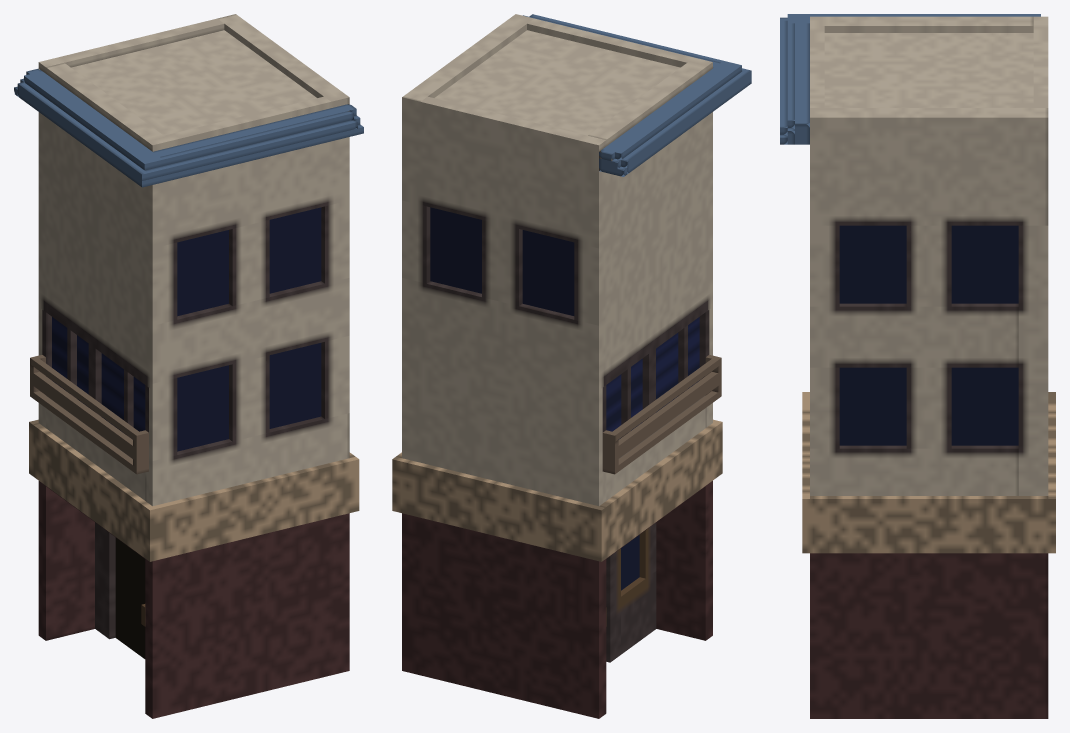
The picture shows the model from 3 angles, left to right: view 1: azimuth 30°, elevation 25°; view 2: azimuth 150°, elevation 25°; view 3: azimuth 270°, elevation 25°; orthographic projection. The views are drawn at different scales.
Visible parts, largest first — view 1: Content; view 2: Content; view 3: Content.
Boxes of the visible parts, left/top/right/bottom form: Content: left=14, top=14, right=363, bottom=718; Content: left=392, top=14, right=751, bottom=718; Content: left=780, top=14, right=1055, bottom=718.
Size of the model in its own units: 37 by 89 by 37.
Materials: 1 (1 with a texture image).
